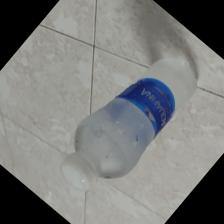Aquafina: (56, 54, 197, 197)
